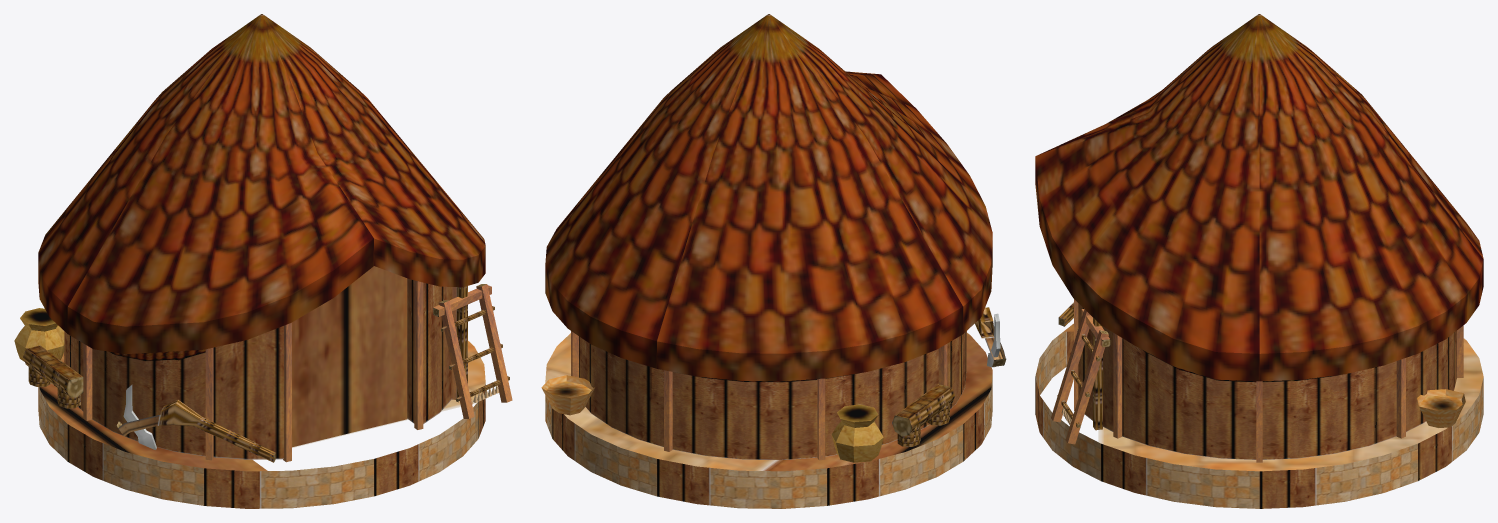
Rendered from house_c.dae.
3 renders of one model, left to right at view 1: azimuth 30°, elevation 25°; view 2: azimuth 150°, elevation 25°; view 3: azimuth 270°, elevation 25°, orthographic.
Parts seen in each view (by area): view 1: house_c; view 2: house_c; view 3: house_c.
Part boxes in pixels (left/top/right/bottom): house_c: left=14, top=14, right=512, bottom=508; house_c: left=541, top=14, right=1006, bottom=508; house_c: left=1035, top=14, right=1483, bottom=508.
Size of the model in its own units: 12.62 by 12.62 by 12.41.
